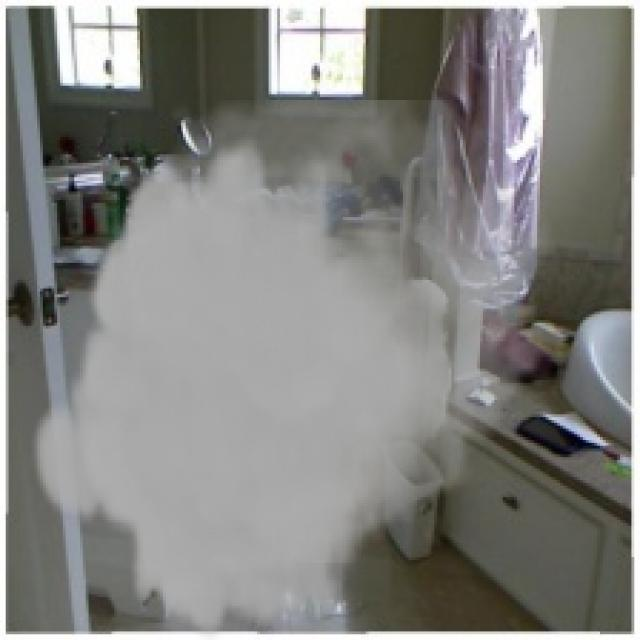smoke: (29, 100, 572, 637)
